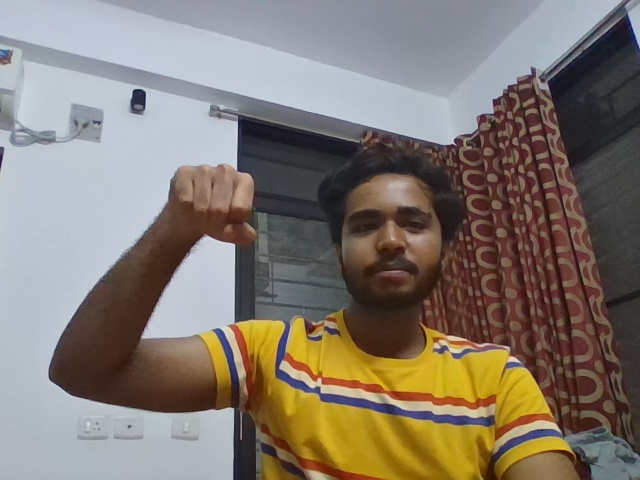Yes: (152, 146, 266, 265)
